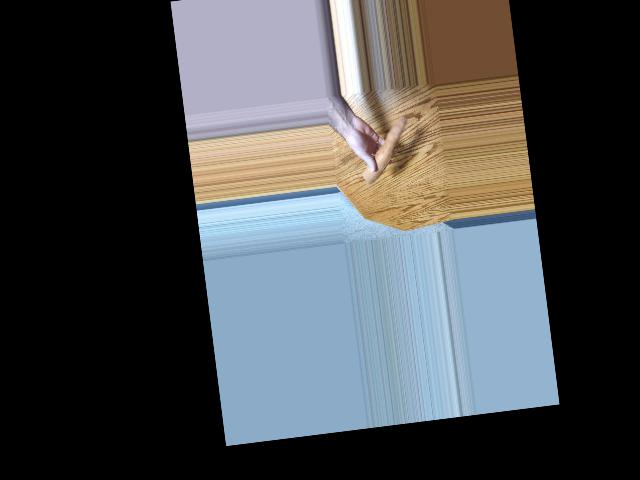sweet_potato: (355, 117, 411, 179)
